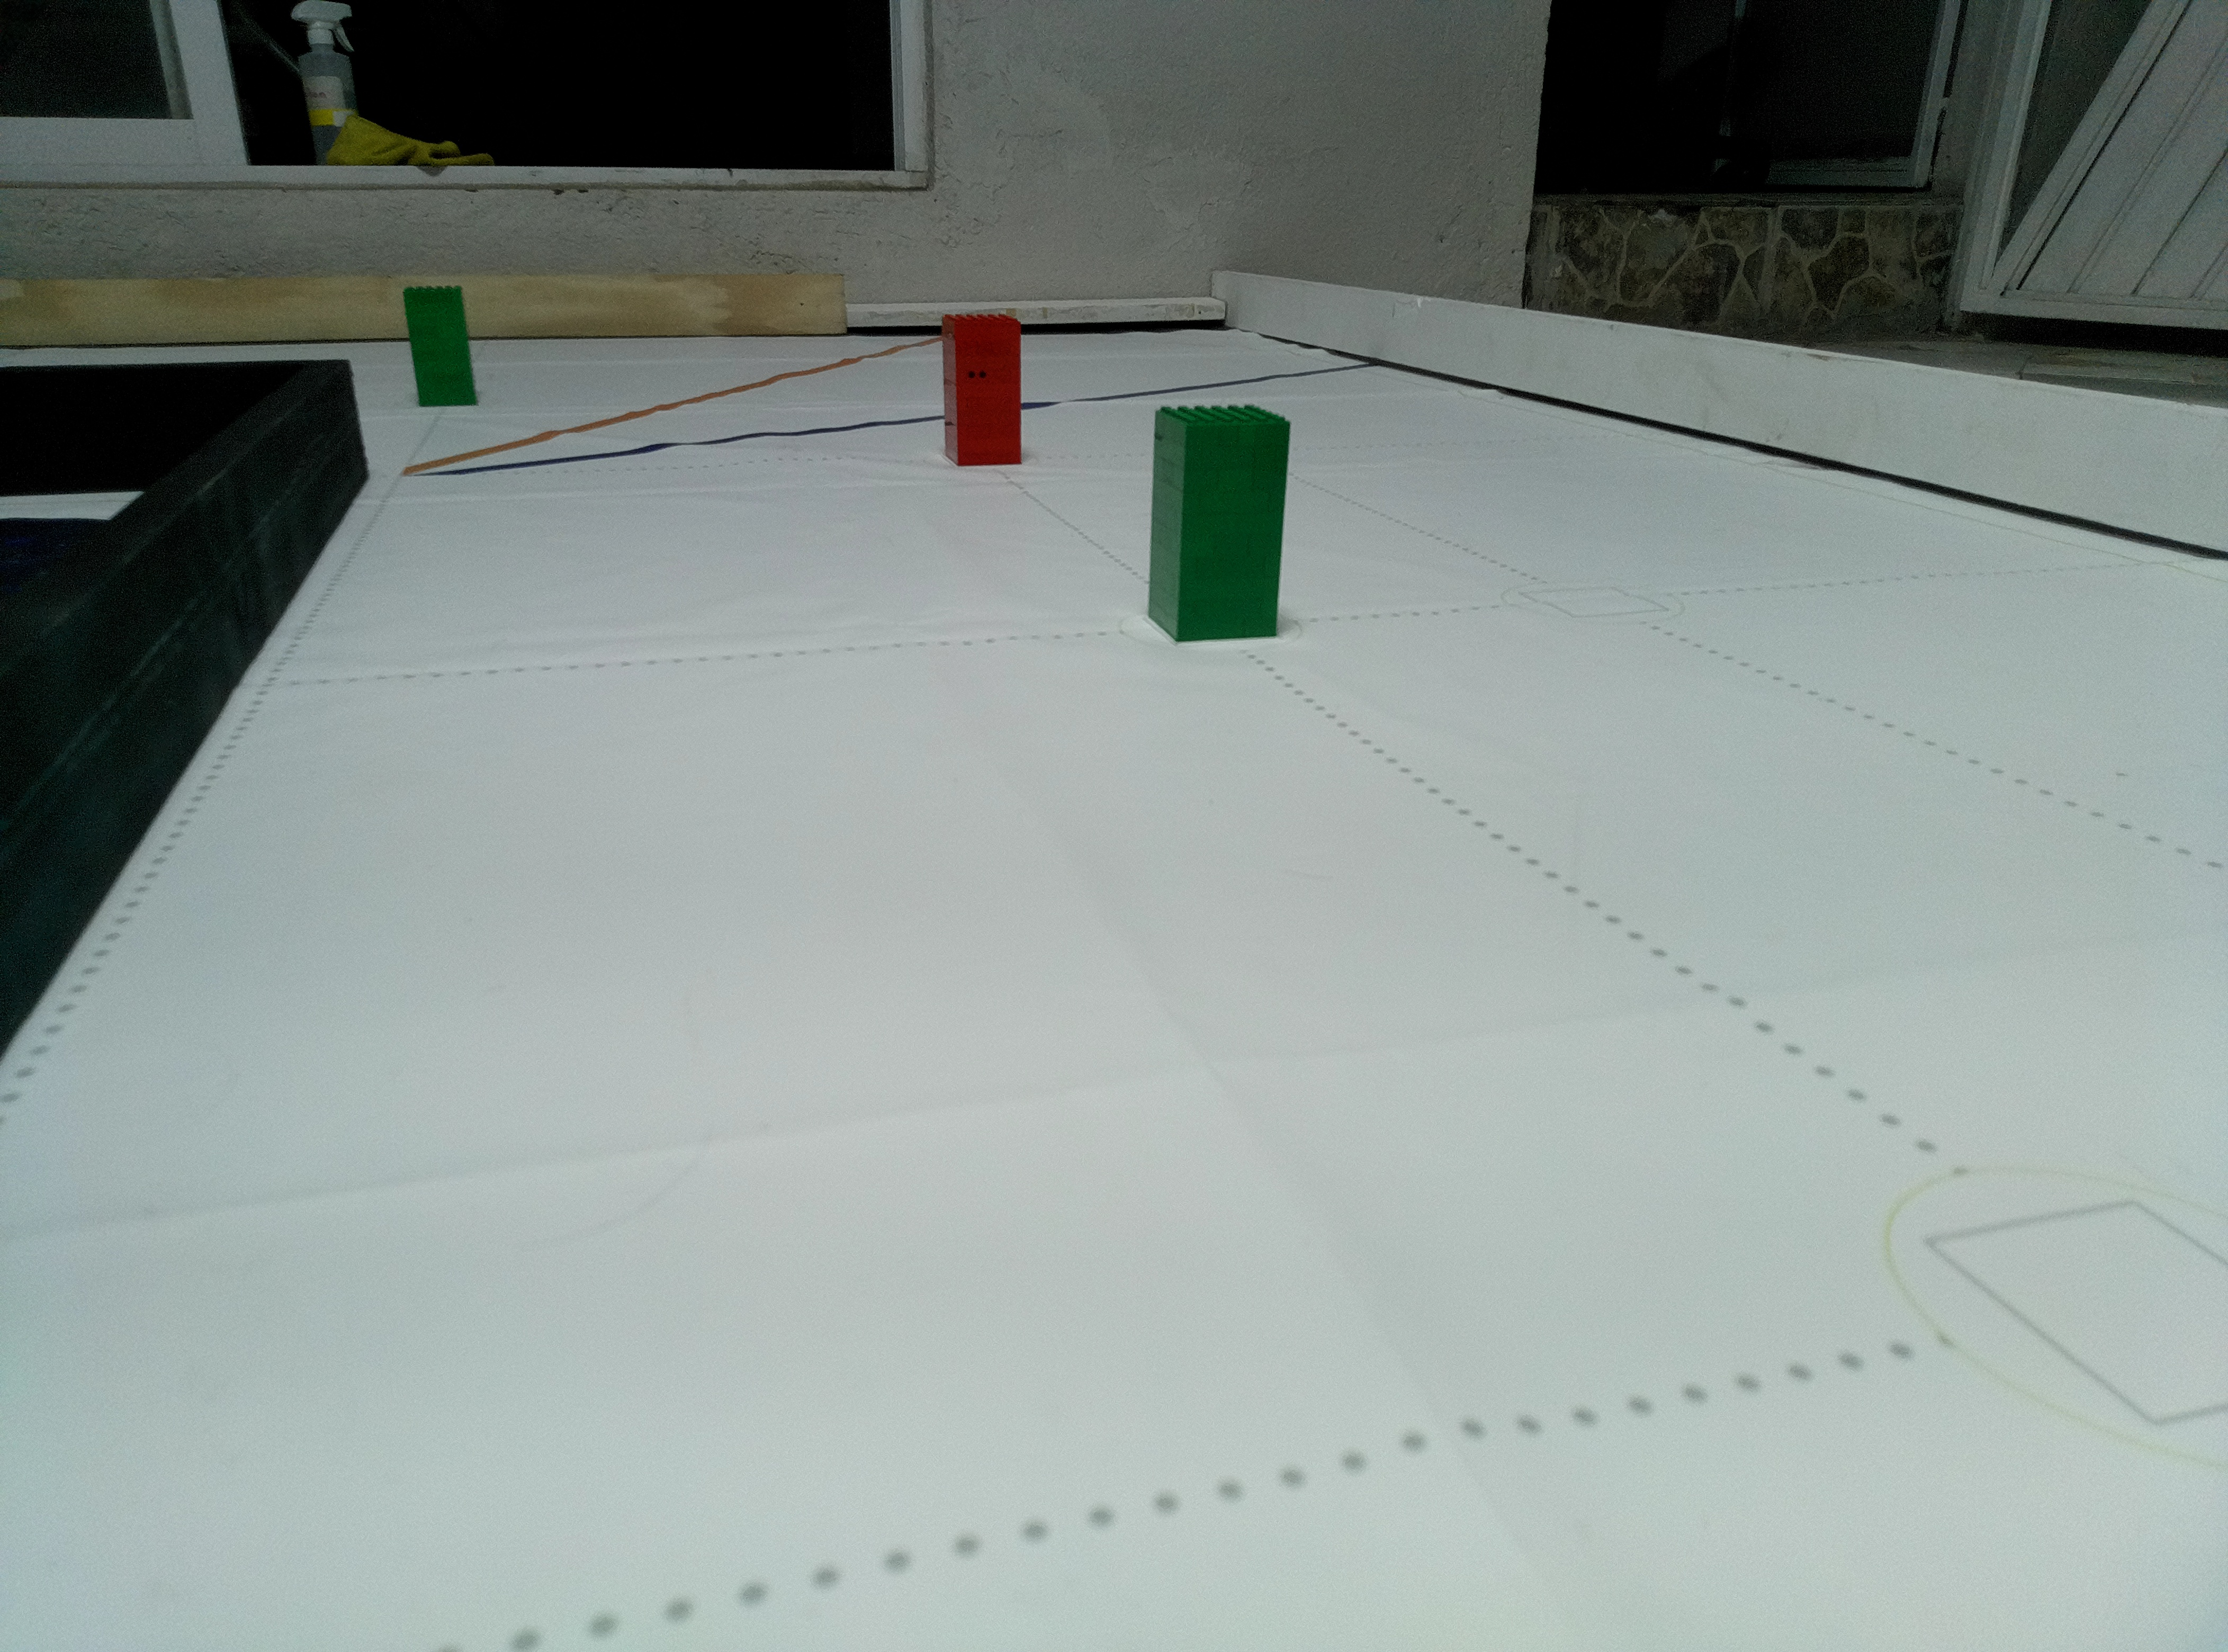greenbox: (1145, 404, 1293, 646), (401, 286, 479, 410)
redbox: (939, 312, 1026, 467)
